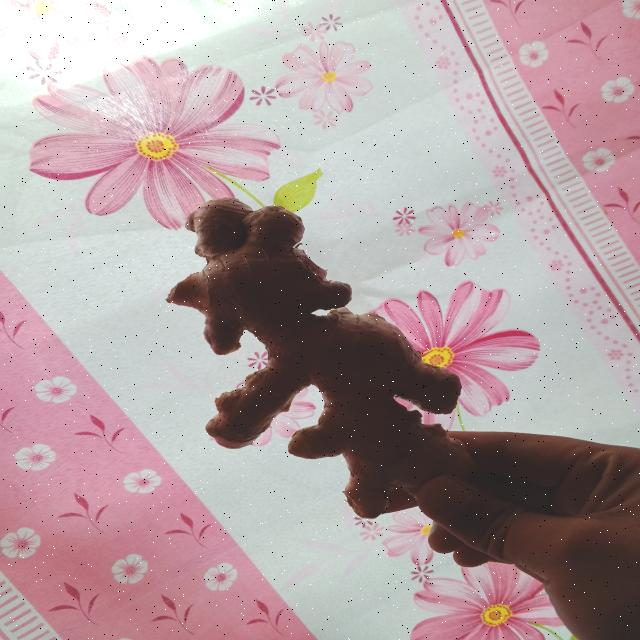ginger: (159, 142, 466, 518)
